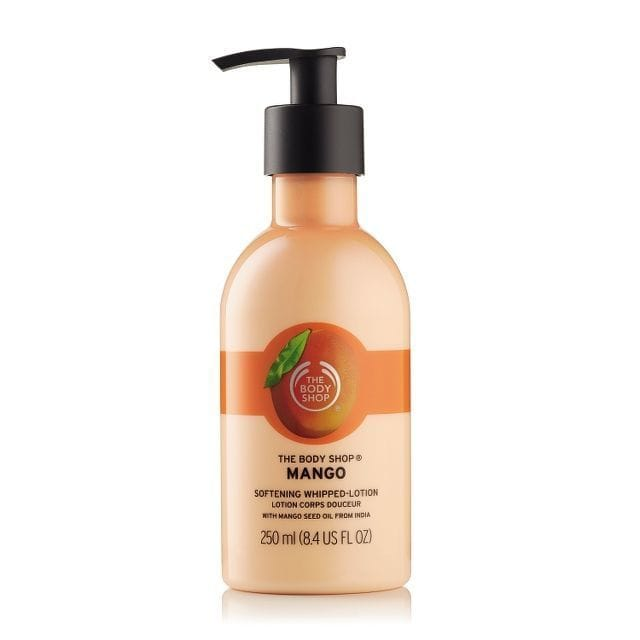Nonrec_Plastic: (182, 39, 449, 606)
